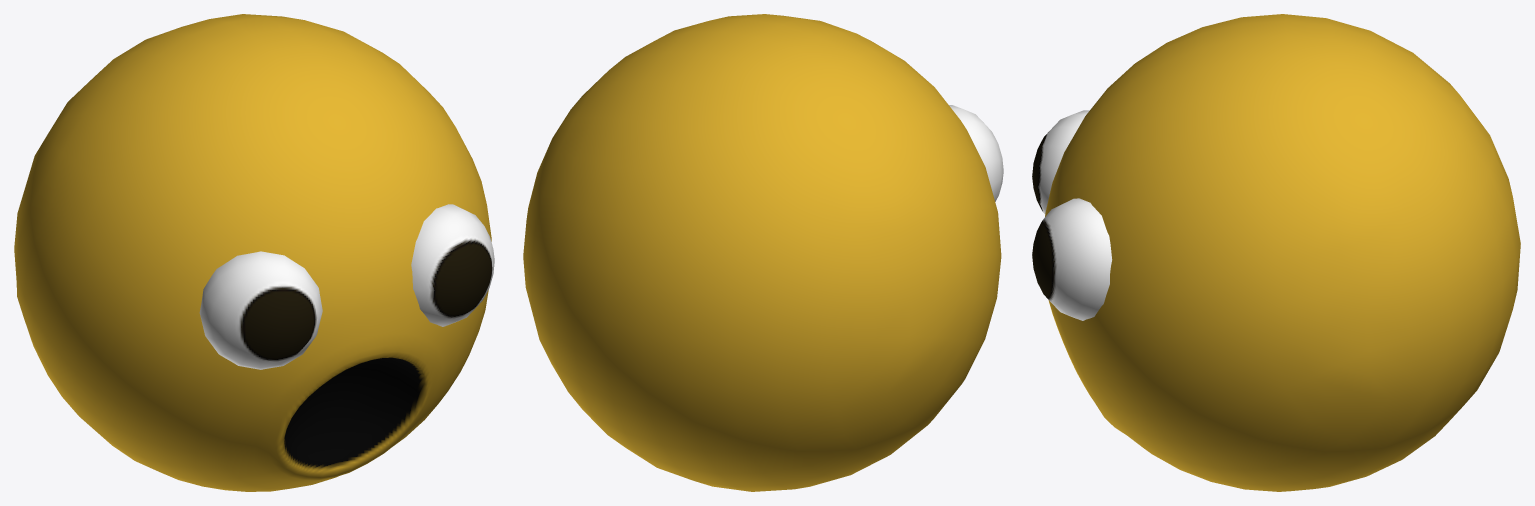
The model's file is emoji_wow_anim.obj.
3 views of the same model, side by side, from view 1: azimuth 30°, elevation 25°; view 2: azimuth 150°, elevation 25°; view 3: azimuth 270°, elevation 25° (orthographic).
Parts seen in each view (by area): view 1: emoji_wow2; view 2: emoji_wow2; view 3: emoji_wow2.
Part boxes in pixels (x1,y1,x2,y2): emoji_wow2: [14, 14, 494, 491]; emoji_wow2: [523, 14, 1003, 491]; emoji_wow2: [1032, 14, 1520, 491].
Size of the model in its own units: 0.9894 by 0.9893 by 1.01.
